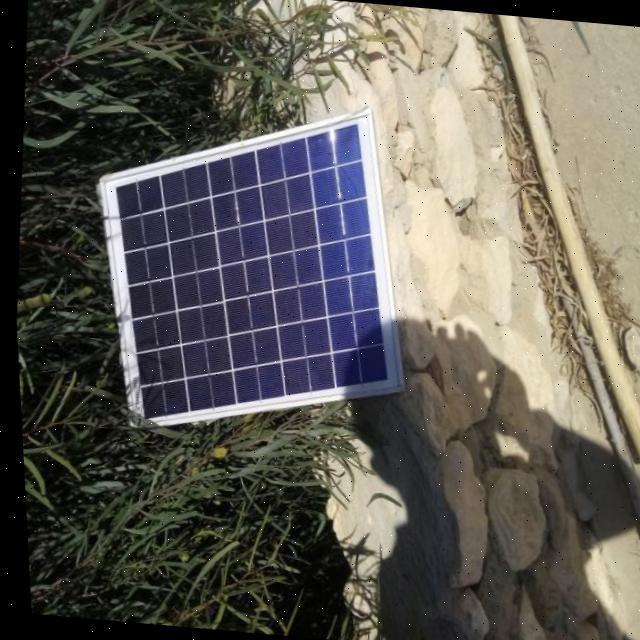Normal Solar Panel: (73, 88, 423, 444)
